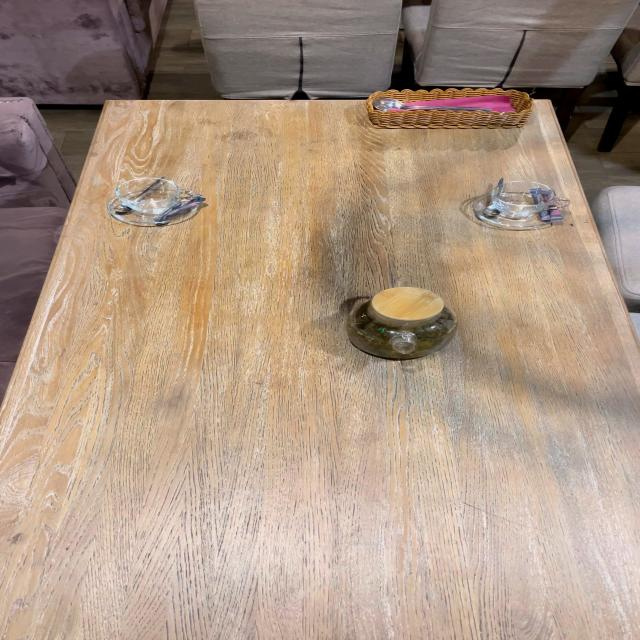tea: (343, 279, 465, 364)
